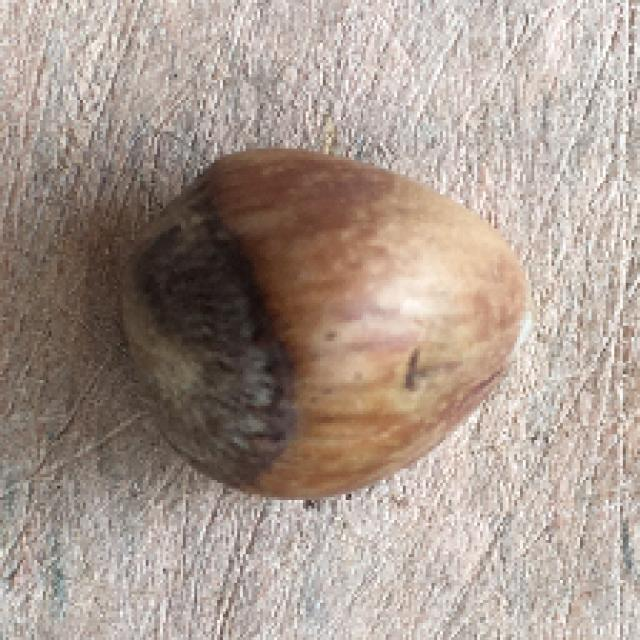qualityHazelnut: (121, 150, 537, 494)
